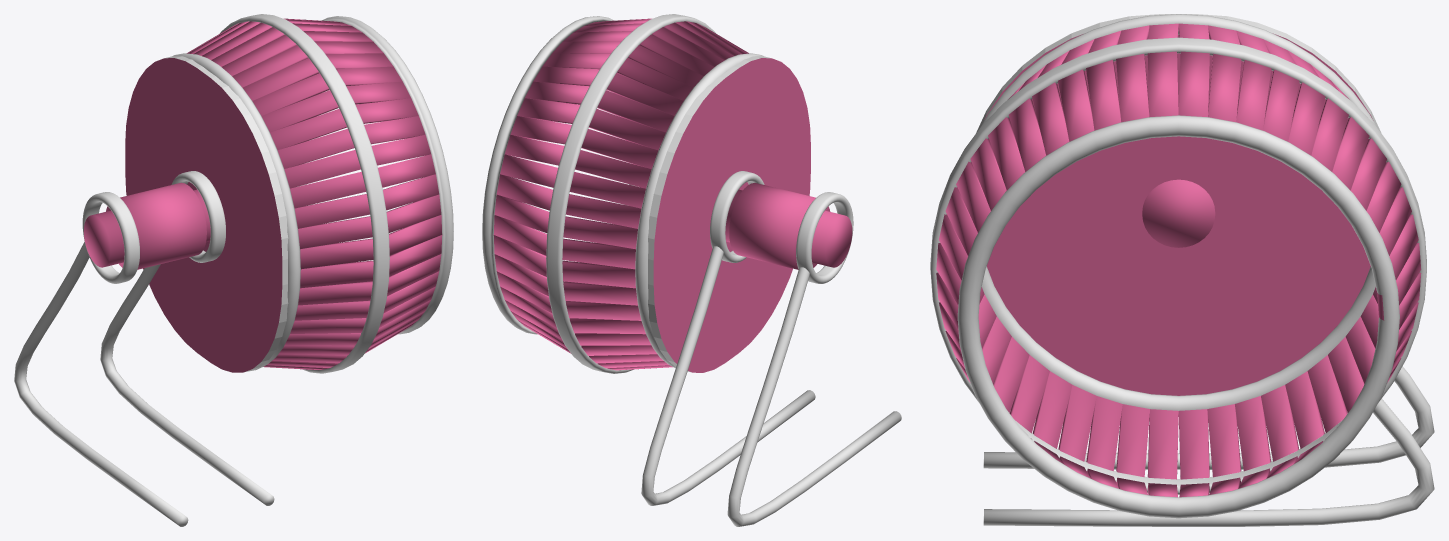
The model's file is hamster_wheel.glb.
3 renders of one model, left to right at view 1: azimuth 30°, elevation 25°; view 2: azimuth 150°, elevation 25°; view 3: azimuth 270°, elevation 25°, orthographic. The views are drawn at different scales.
Visible parts, largest first — view 1: BezierCircle, BezierCircle.002, Cylinder; view 2: BezierCircle, BezierCircle.002, Cylinder; view 3: BezierCircle, BezierCircle.002, Cylinder.
Boxes of the visible parts, x1,y1,x2,y2 form: BezierCircle: (125,14,453,373); BezierCircle.002: (14,171,274,526); Cylinder: (83,182,210,269); BezierCircle: (482,14,810,373); BezierCircle.002: (641,171,901,526); Cylinder: (725,183,852,269); BezierCircle: (930,14,1426,518); BezierCircle.002: (983,366,1434,526); Cylinder: (1142,179,1215,247).
Size of the model in its own units: 1.06 by 1.46 by 1.22.
